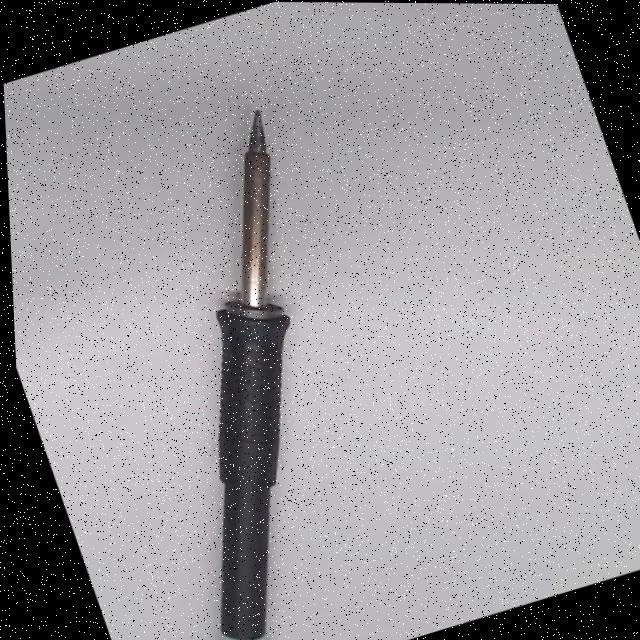soldering_iron: (34, 106, 441, 640)
